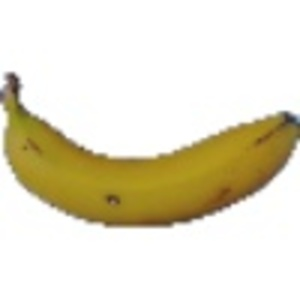banana: (1, 63, 299, 233)
